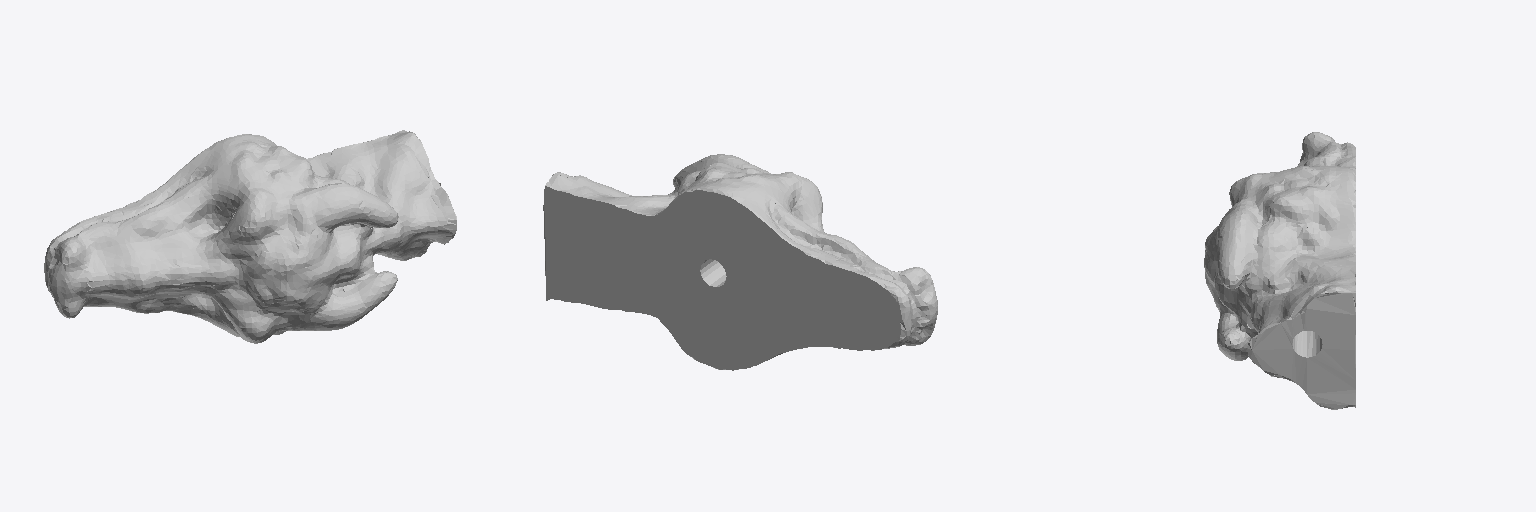
Rendered from 80757-dragon_head_Clustering_50pct.obj.
3 views of the same model, side by side, from view 1: azimuth 30°, elevation 25°; view 2: azimuth 150°, elevation 25°; view 3: azimuth 270°, elevation 25° (orthographic).
Bounding box in the file's own units: 1 × 0.4604 × 0.3516.